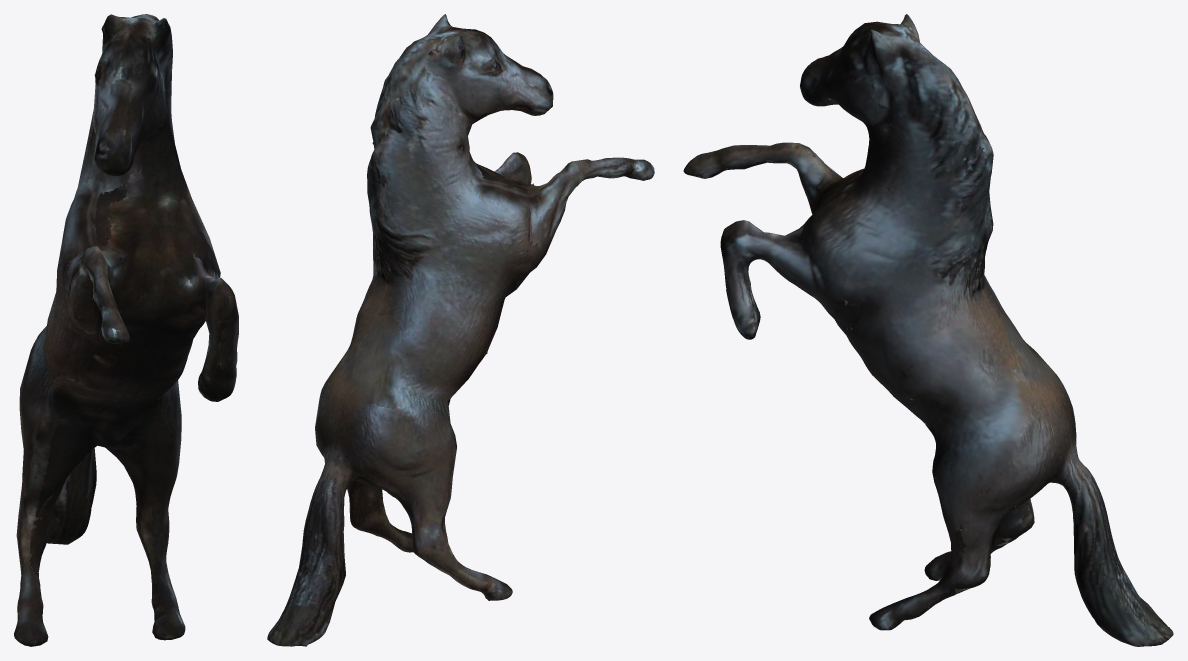
Rendered from model_Wild Horse_20171103_094113998.gltf.
3 renders of one model, left to right at view 1: azimuth 30°, elevation 25°; view 2: azimuth 150°, elevation 25°; view 3: azimuth 270°, elevation 25°, orthographic. The views are drawn at different scales.
Parts seen in each view (by area): view 1: node-0; view 2: node-0; view 3: node-0.
Part boxes in pixels (x1,y1,x2,y2): node-0: (14, 14, 238, 646); node-0: (267, 14, 654, 646); node-0: (683, 14, 1173, 646).
Size of the model in its own units: 53.63 by 145 by 108.
1 material, 1 textured.
